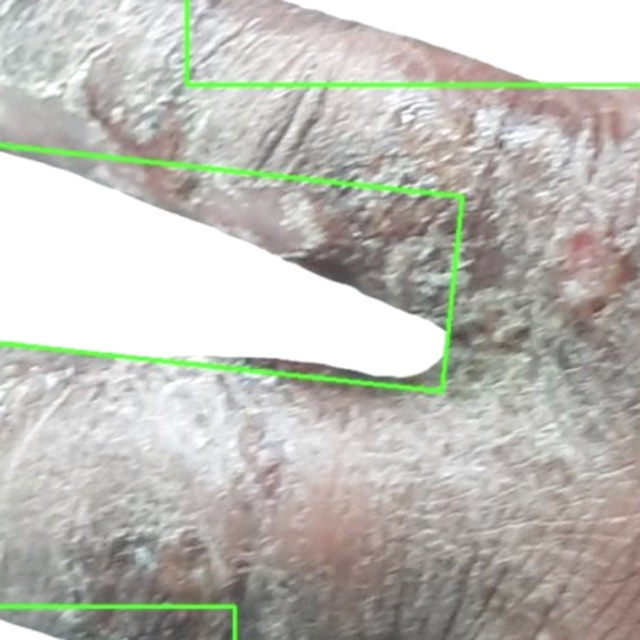Eczema: (0, 143, 464, 392), (188, 0, 639, 86)
